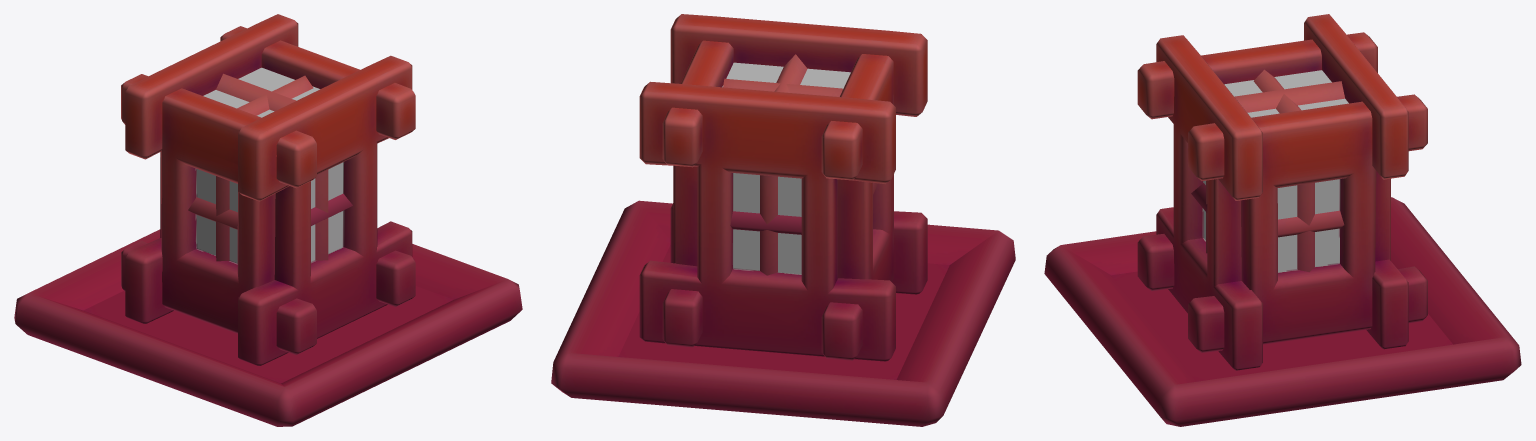
The model's file is lantern_01.fbx.
3 views of the same model, side by side, from view 1: azimuth 30°, elevation 25°; view 2: azimuth 150°, elevation 25°; view 3: azimuth 270°, elevation 25° (orthographic). The views are drawn at different scales.
Parts seen in each view (by area): view 1: m_boxlantern_01, m_boxlantern_float_01; view 2: m_boxlantern_01, m_boxlantern_float_01; view 3: m_boxlantern_01, m_boxlantern_float_01.
Part boxes in pixels (bbox=[...]): m_boxlantern_01: bbox=[121, 14, 415, 365]; m_boxlantern_float_01: bbox=[14, 229, 522, 426]; m_boxlantern_01: bbox=[639, 14, 927, 361]; m_boxlantern_float_01: bbox=[551, 200, 1015, 426]; m_boxlantern_01: bbox=[1137, 14, 1427, 370]; m_boxlantern_float_01: bbox=[1044, 197, 1521, 426].
Size of the model in its own units: 1.67 by 1.07 by 1.67.
